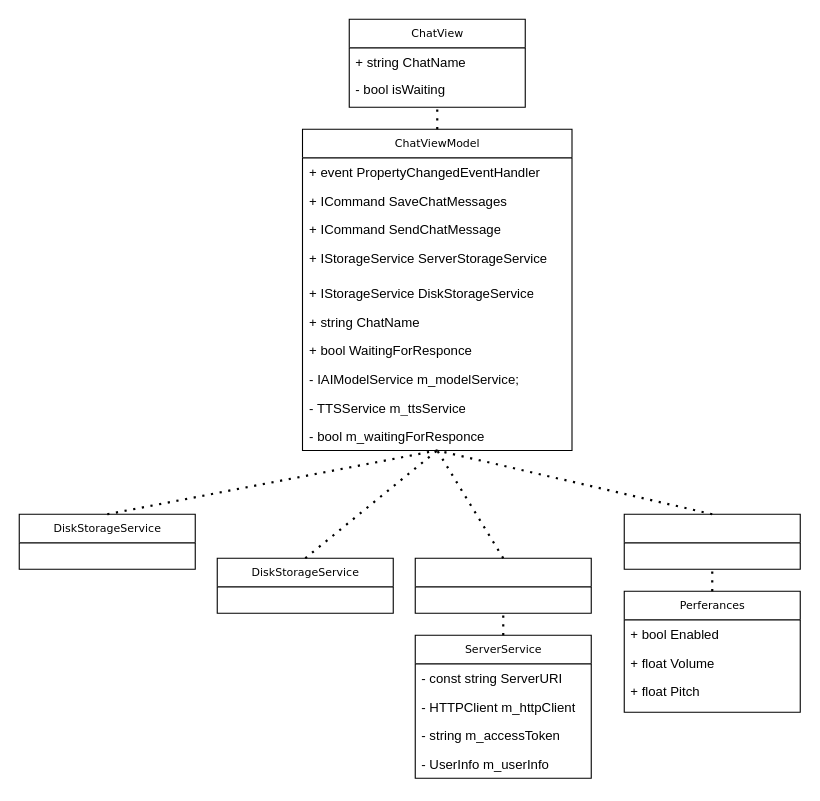
Some shapes in this 820 by 801 pixel diagram are drawn without their labels. Each missing label, with the centre of its shape:
"ServerStorageService" goes at (502,585).
"TTSService" goes at (711,541).
